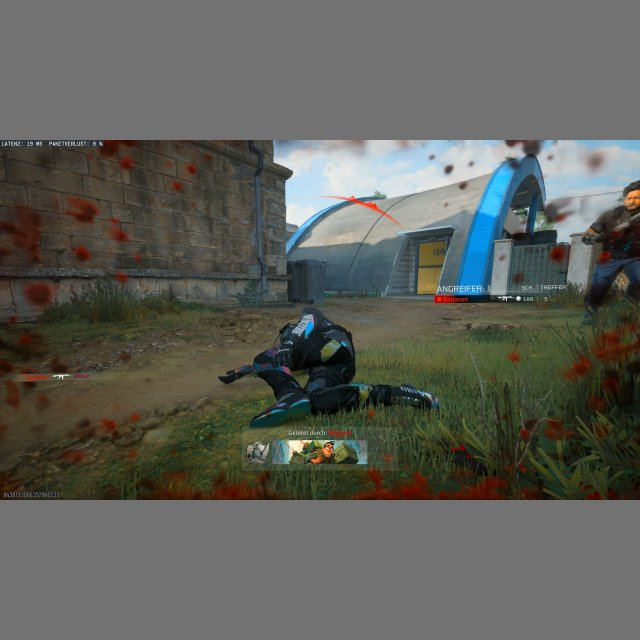head: (622, 179, 640, 210)
player: (218, 306, 439, 416), (580, 178, 640, 327)
